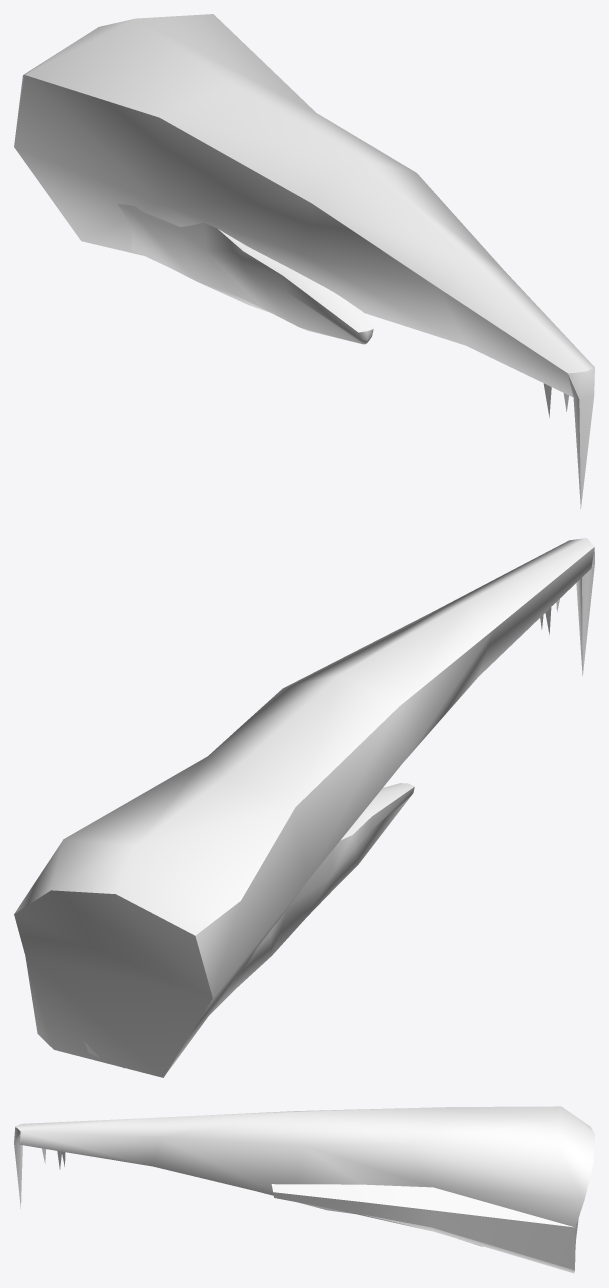
The model's file is M5_T_bingzhui01.FBX.
3 renders of one model, top to bottom at view 1: azimuth 30°, elevation 25°; view 2: azimuth 150°, elevation 25°; view 3: azimuth 270°, elevation 25°, orthographic. The views are drawn at different scales.
Visible parts, largest first — view 1: M5_T_bingzhui01, M5_T_bingzhui02; view 2: M5_T_bingzhui01, M5_T_bingzhui02; view 3: M5_T_bingzhui01.
Part boxes in pixels (x1,y1,x2,y2): M5_T_bingzhui01: [14, 14, 594, 508]; M5_T_bingzhui02: [117, 203, 373, 344]; M5_T_bingzhui01: [14, 538, 594, 1077]; M5_T_bingzhui02: [84, 783, 414, 1068]; M5_T_bingzhui01: [14, 1106, 594, 1273].
Bounding box in the file's own units: 93.44 × 98.76 × 366.
